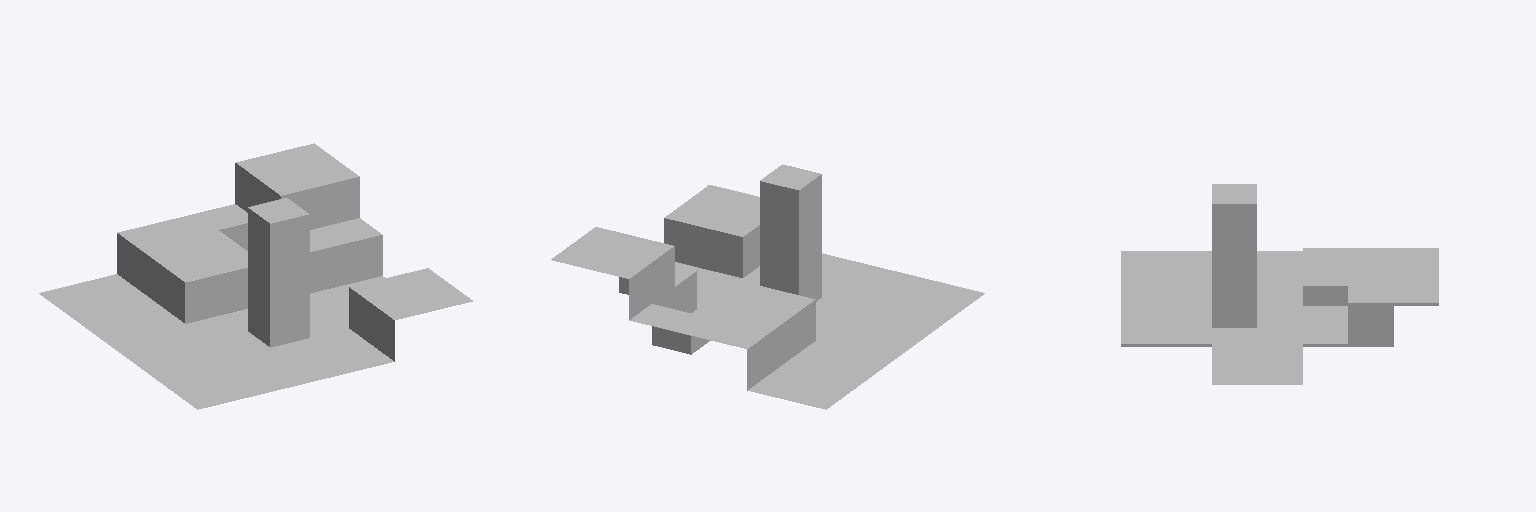
Rendered from level0.obj.
The picture shows the model from 3 angles: view 1: azimuth 30°, elevation 25°; view 2: azimuth 150°, elevation 25°; view 3: azimuth 270°, elevation 25°; orthographic projection.
Visible parts, largest first — view 1: Untitled; view 2: Untitled; view 3: Untitled.
Part boxes in pixels (x1,y1,x2,y2): Untitled: (39,143,472,409); Untitled: (551,164,984,409); Untitled: (1121,184,1438,384).
Bounding box in the file's own units: 7 × 3 × 7.